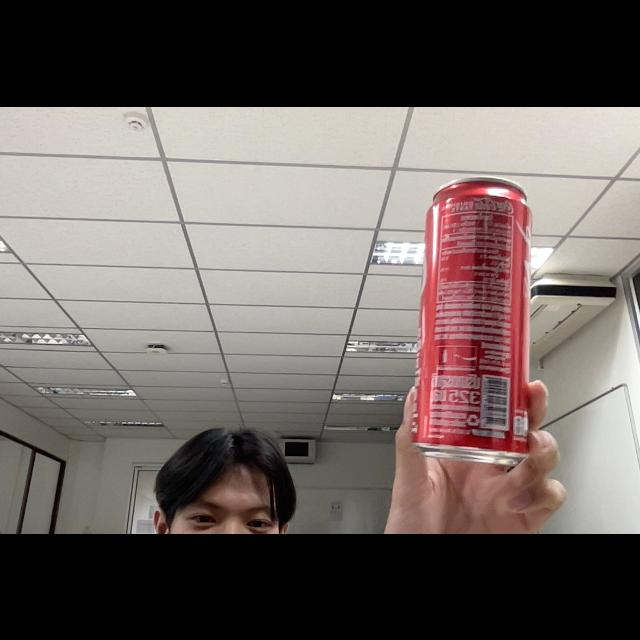can: (402, 170, 538, 470)
